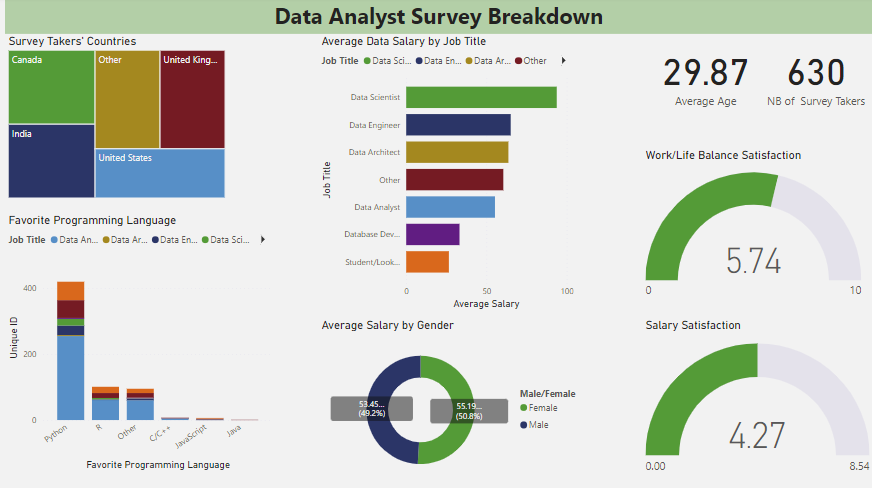

This screenshot's page, from the dashboard's own definition file:
{"tool":"powerbi","page":{"name":"Page 1","canvas":[1280,720],"ordinal":0},"visuals":[{"type":"textbox","box":[10.3,0,1269.7,53.9],"z":0},{"type":"card","fields":{"Values":["Count(Data Professional Survey.Unique ID)"]},"box":[1113.1,53.9,166.9,119.4],"z":1000},{"type":"card","fields":{"Values":["Avg(Data Professional Survey.Q10 - Current Age)"]},"box":[959,53.9,154.1,119.4],"z":2000},{"type":"barChart","title":"Average Data Salary by Job Title","fields":{"Category":["Data Professional Survey.Q1 - Which Title Best Fits your Current Role?.1"],"Y":["Avg(Data Professional Survey.Average Salary)"],"Series":["Data Professional Survey.Q1 - Which Title Best Fits your Current Role?.1"]},"box":[468.6,53.9,378.7,408.3],"z":3000},{"type":"columnChart","title":" Favorite Programming Language","fields":{"Category":["Data Professional Survey.Q5 - Favorite Programming Language.1"],"Y":["CountNonNull(Data Professional Survey.Unique ID)"],"Series":["Data Professional Survey.Q1 - Which Title Best Fits your Current Role?.1"]},"box":[10.3,315.8,396.7,381.3],"z":4000},{"type":"treemap","title":"Survey Takers'' Countries","fields":{"Group":["Data Professional Survey.Q11 - Which Country do you live in?.1"],"Values":["Count(Data Professional Survey.Q11 - Which Country do you live in?.1)"]},"box":[10.3,53.9,327.4,245.2],"z":5000},{"type":"gauge","title":"Work/Life Balance Satisfaction","fields":{"Y":["Avg(Data Professional Survey.Q6 - How Happy are you in your Current Position with the following? (Work/Life Balance))"],"MinValue":["Min(Data Professional Survey.Q6 - How Happy are you in your Current Position with the following? (Work/Life Balance))1"],"MaxValue":["Max(Data Professional Survey.Q6 - How Happy are you in your Current Position with the following? (Work/Life Balance))2"]},"box":[942.3,220.8,326.1,241.4],"z":6000},{"type":"gauge","title":"Salary Satisfaction","fields":{"Y":["Avg(Data Professional Survey.Q6 - How Happy are you in your Current Position with the following? (Salary))"]},"box":[942.3,469.9,337.7,250.4],"z":7000},{"type":"donutChart","title":"Average Salary by Gender","fields":{"Category":["Data Professional Survey.Q9 - Male/Female?"],"Y":["Avg(Data Professional Survey.Average Salary)"]},"box":[468.6,469.9,399.3,250.4],"z":7001}]}

Visuals, with their boxes in screenshot pixels (x1, y1, x2, y2), scaled from the page's 1280x720 canvas onto the 872x488 screenshot:
textbox: region(7, 0, 871, 37)
card - Count(Data Professional Survey.Unique ID): region(758, 37, 871, 117)
card - Avg(Data Professional Survey.Q10 - Current Age): region(653, 37, 758, 117)
"Average Data Salary by Job Title" barChart: region(319, 37, 577, 313)
" Favorite Programming Language" columnChart: region(7, 214, 277, 472)
"Survey Takers'' Countries" treemap: region(7, 37, 230, 203)
"Work/Life Balance Satisfaction" gauge: region(642, 150, 864, 313)
"Salary Satisfaction" gauge: region(642, 318, 871, 487)
"Average Salary by Gender" donutChart: region(319, 318, 591, 487)
